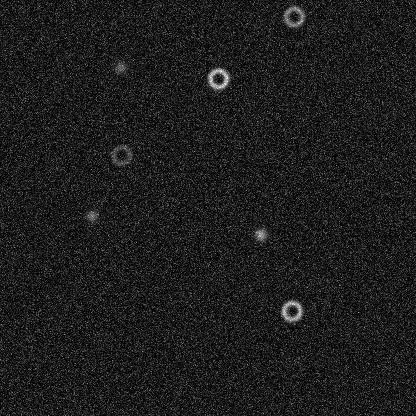Ring: (109, 143, 133, 167), (279, 298, 303, 322), (281, 4, 305, 28), (206, 66, 230, 90)
Spot: (83, 207, 99, 223), (252, 226, 268, 242), (112, 58, 128, 74)
